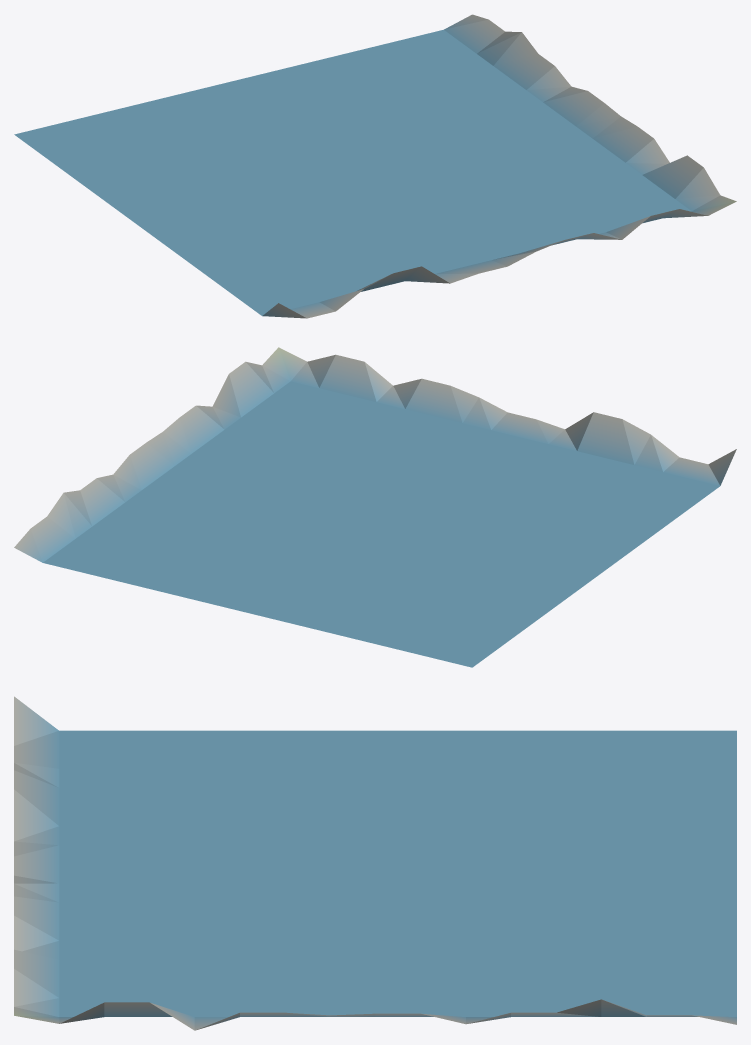
3 views of the same model, one above another, from view 1: azimuth 30°, elevation 25°; view 2: azimuth 150°, elevation 25°; view 3: azimuth 270°, elevation 25° (orthographic). The views are drawn at different scales.
Bounding box in the file's own units: 32 × 1.8 × 32.
